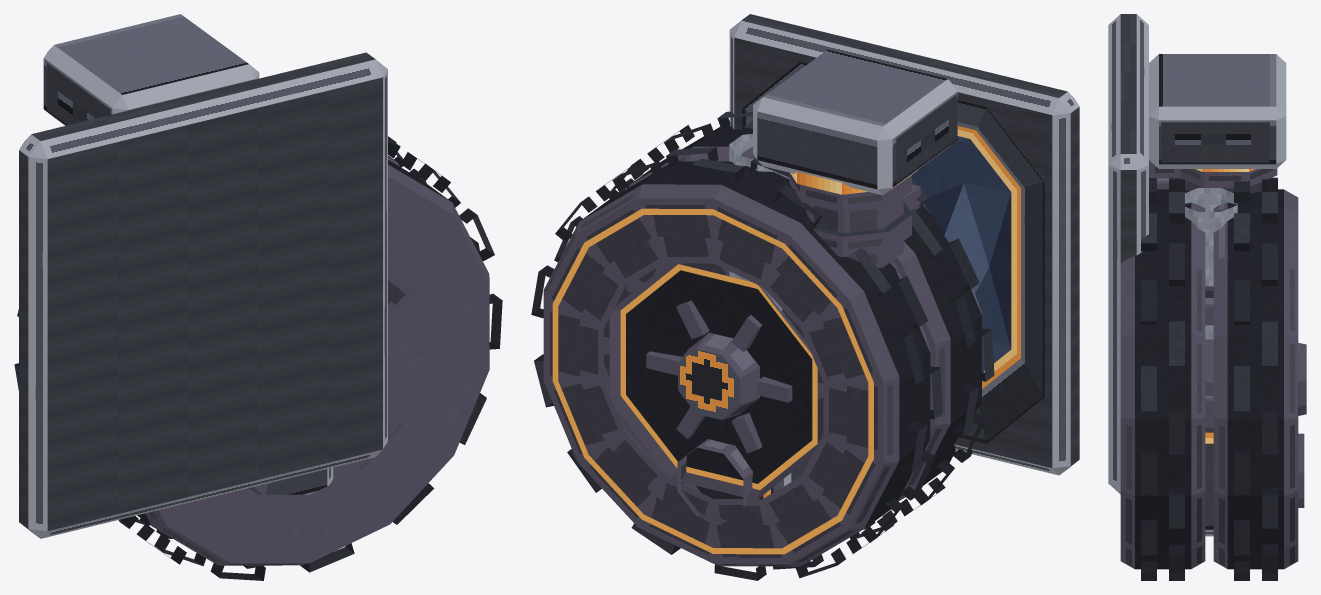
File: marlit_wheavy.glb
3 renders of one model, left to right at view 1: azimuth 30°, elevation 25°; view 2: azimuth 150°, elevation 25°; view 3: azimuth 270°, elevation 25°, orthographic. The views are drawn at different scales.
Visible parts, largest first — view 1: marlit_wheavy_body, marlit_wheavy_tyre, marlit_wheavy_leg; view 2: marlit_wheavy_tyre, marlit_wheavy_body, marlit_wheavy_leg; view 3: marlit_wheavy_tyre, marlit_wheavy_body, marlit_wheavy_leg, marlit_wheavy_collar.
Part boxes in pixels (<box>): marlit_wheavy_body: <box>19,14,387,538</box>; marlit_wheavy_tyre: <box>14,136,502,580</box>; marlit_wheavy_leg: <box>248,467,333,494</box>; marlit_wheavy_tyre: <box>531,111,994,580</box>; marlit_wheavy_body: <box>729,14,1079,475</box>; marlit_wheavy_leg: <box>677,133,811,522</box>; marlit_wheavy_tyre: <box>1120,177,1306,580</box>; marlit_wheavy_body: <box>1108,14,1286,494</box>; marlit_wheavy_leg: <box>1185,188,1304,536</box>; marlit_wheavy_collar: <box>1205,286,1213,325</box>.
Size of the model in its own units: 2.38 by 2.4 by 0.98.
Materials: 1 (1 with a texture image).
